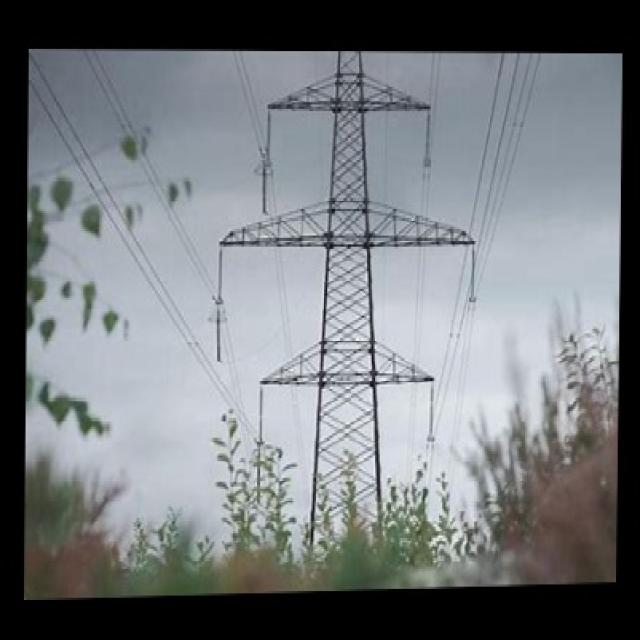utility poles: (213, 373, 472, 580)
